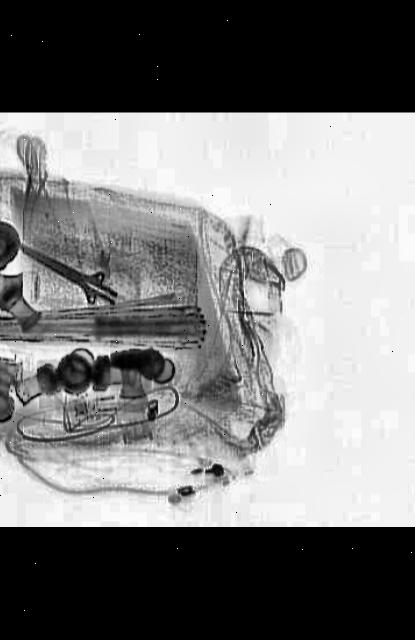Knife: (8, 234, 134, 312)
